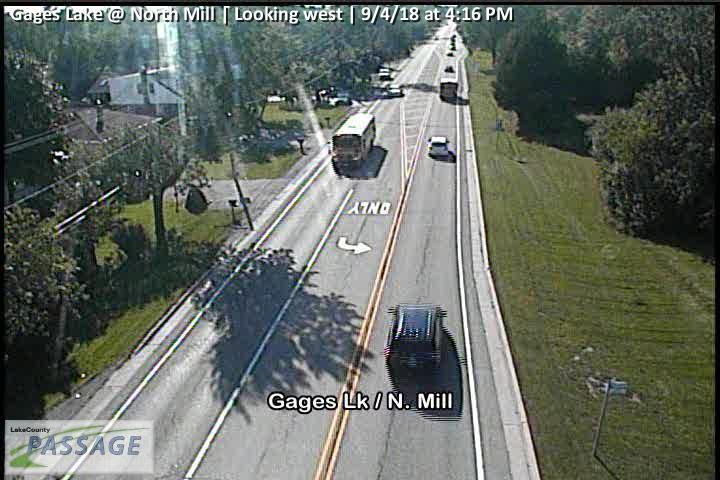Bus: (329, 113, 376, 174)
SUV: (384, 303, 448, 374), (428, 136, 449, 159)
Sedan: (377, 69, 390, 78)
Truck: (439, 77, 458, 101)
